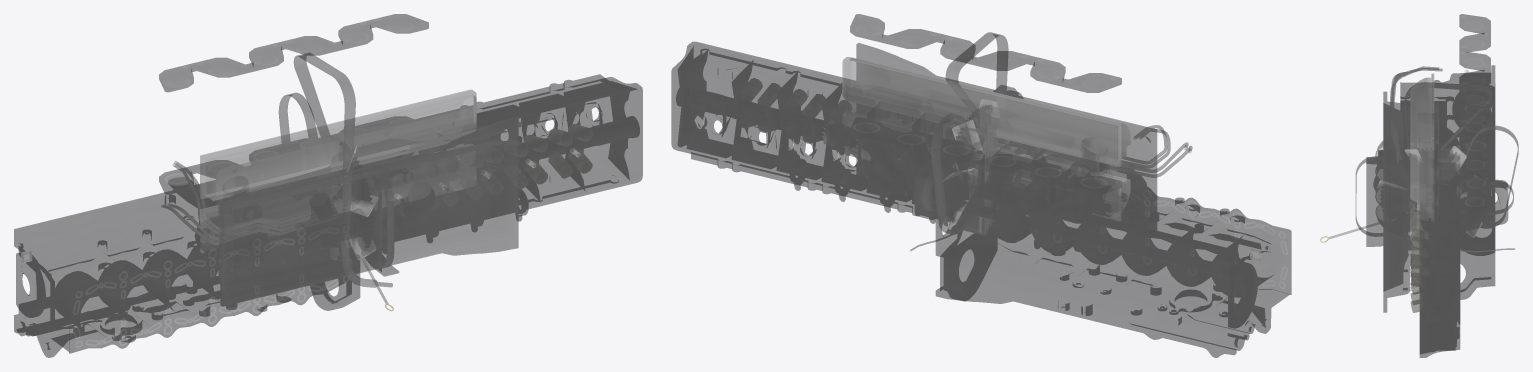
The model's file is engine.glb.
The picture shows the model from 3 angles, left to right: view 1: azimuth 30°, elevation 25°; view 2: azimuth 150°, elevation 25°; view 3: azimuth 270°, elevation 25°; orthographic projection. The views are drawn at different scales.
Visible parts, largest first — view 1: desirefx_me_033, desirefx_me_057, desirefx_me_049, desirefx_me_024, desirefx_me_010, desirefx_me_059, desirefx_me_082, desirefx_me_023, desirefx_me_026, desirefx_me_021, desirefx_me_063, desirefx_me_064 (+8 smaller); view 2: desirefx_me_033, desirefx_me_049, desirefx_me_010, desirefx_me_024, desirefx_me_057, desirefx_me_056, desirefx_me_023, desirefx_me_021, desirefx_me_055, desirefx_me_013, desirefx_me_026, desirefx_me_082 (+8 smaller); view 3: desirefx_me_049, desirefx_me_033, desirefx_me_010, desirefx_me_057, desirefx_me_024, desirefx_me_021, desirefx_me_023, desirefx_me_082, desirefx_me_059, desirefx_me_064, desirefx_me_054, desirefx_me_013 (+10 smaller).
Boxes of the visible parts, left/top/right/bottom form: desirefx_me_033: left=14, top=152, right=359, bottom=357; desirefx_me_057: left=219, top=117, right=518, bottom=306; desirefx_me_049: left=340, top=74, right=642, bottom=244; desirefx_me_024: left=200, top=90, right=476, bottom=252; desirefx_me_010: left=159, top=14, right=441, bottom=216; desirefx_me_059: left=195, top=181, right=434, bottom=262; desirefx_me_082: left=334, top=124, right=592, bottom=217; desirefx_me_023: left=279, top=53, right=355, bottom=199; desirefx_me_026: left=161, top=161, right=392, bottom=287; desirefx_me_021: left=352, top=167, right=398, bottom=276; desirefx_me_063: left=517, top=118, right=635, bottom=165; desirefx_me_064: left=331, top=136, right=373, bottom=259; desirefx_me_033: left=936, top=147, right=1291, bottom=357; desirefx_me_049: left=671, top=42, right=990, bottom=221; desirefx_me_010: left=850, top=14, right=1121, bottom=227; desirefx_me_024: left=842, top=57, right=1130, bottom=221; desirefx_me_057: left=856, top=43, right=1156, bottom=230; desirefx_me_056: left=845, top=81, right=1099, bottom=175; desirefx_me_023: left=931, top=32, right=1008, bottom=234; desirefx_me_021: left=915, top=85, right=1018, bottom=219; desirefx_me_055: left=1011, top=137, right=1107, bottom=188; desirefx_me_013: left=910, top=121, right=998, bottom=250; desirefx_me_026: left=977, top=125, right=1192, bottom=177; desirefx_me_082: left=742, top=78, right=1006, bottom=149; desirefx_me_049: left=1419, top=158, right=1460, bottom=357; desirefx_me_033: left=1400, top=65, right=1495, bottom=299; desirefx_me_010: left=1415, top=14, right=1490, bottom=244; desirefx_me_057: left=1383, top=92, right=1428, bottom=312; desirefx_me_024: left=1410, top=74, right=1434, bottom=246; desirefx_me_021: left=1366, top=157, right=1507, bottom=246; desirefx_me_023: left=1405, top=82, right=1518, bottom=228; desirefx_me_082: left=1410, top=200, right=1428, bottom=312; desirefx_me_059: left=1373, top=130, right=1411, bottom=235; desirefx_me_064: left=1380, top=147, right=1481, bottom=211; desirefx_me_054: left=1450, top=180, right=1494, bottom=225; desirefx_me_013: left=1437, top=145, right=1514, bottom=252.
Bounding box in the file's own units: 260 × 108 × 88.97.
4 materials, 4 textured.
